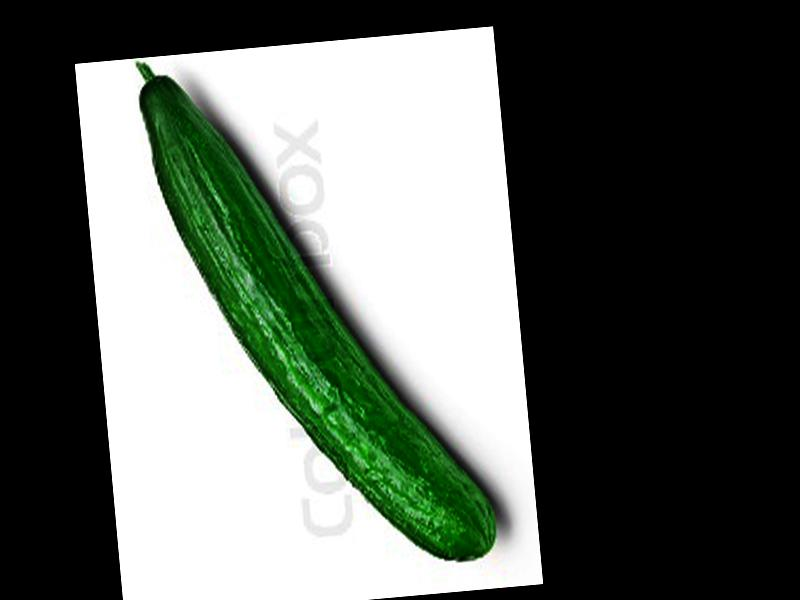Cucumber: (135, 29, 501, 583)
